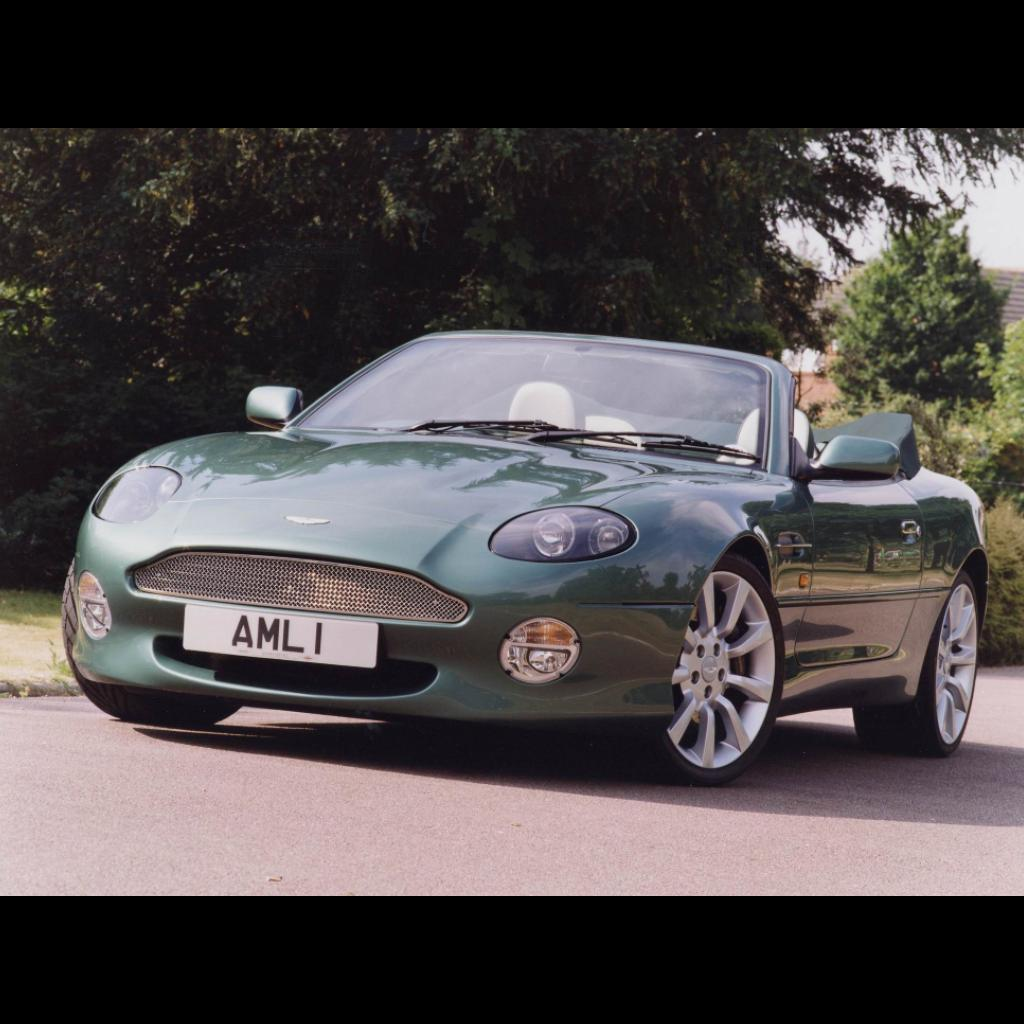aero: (774, 530, 811, 558)
bodysurface: (785, 481, 920, 704)
coupe: (61, 329, 988, 786)
fender: (609, 476, 808, 595), (110, 427, 281, 511), (918, 465, 988, 564)
foglamp: (497, 614, 583, 684), (77, 568, 112, 639)
frontbumper: (71, 557, 719, 733)
grill: (124, 546, 471, 627)
headlamp: (487, 504, 637, 564), (92, 466, 182, 523)
hood: (125, 426, 766, 580)
mirror: (787, 431, 900, 483), (245, 383, 301, 432)
opening: (150, 632, 437, 699)
wheel: (659, 570, 776, 770), (935, 583, 976, 744)
